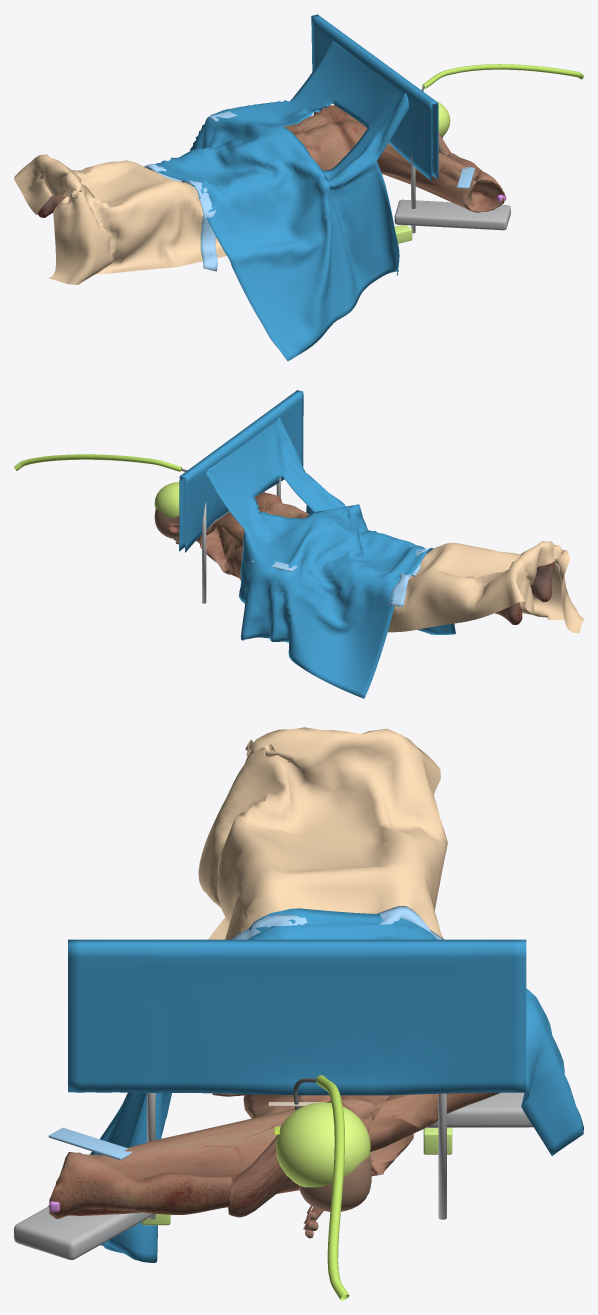
File: patient-raw.glb
The picture shows the model from 3 angles, top to bottom: view 1: azimuth 30°, elevation 25°; view 2: azimuth 150°, elevation 25°; view 3: azimuth 270°, elevation 25°; orthographic projection. The views are drawn at different scales.
Parts seen in each view (by area): view 1: LapDrape, WarmingBlanket, PatientBody, ScreenDrape, ArmBoardL, ThighStrap, Circuit.001; view 2: LapDrape, WarmingBlanket, ScreenDrape, PatientBody, Circuit.001, Cap, ThighStrap, Cylinder.001; view 3: ScreenDrape, WarmingBlanket, PatientBody, LapDrape, Cap, ArmBoardL, Circuit.001, ArmBoardR, ThighStrap, Cylinder.001, ArmStrapL.
Part boxes in pixels (left/top/right/bottom): LapDrape: left=148, top=40, right=409, bottom=361; WarmingBlanket: left=14, top=154, right=226, bottom=284; PatientBody: left=37, top=105, right=504, bottom=217; ScreenDrape: left=311, top=14, right=438, bottom=180; ArmBoardL: left=394, top=199, right=510, bottom=230; ThighStrap: left=144, top=163, right=217, bottom=271; Circuit.001: left=422, top=64, right=583, bottom=88; LapDrape: left=206, top=417, right=455, bottom=698; WarmingBlanket: left=388, top=541, right=583, bottom=633; ScreenDrape: left=179, top=390, right=303, bottom=552; PatientBody: left=154, top=491, right=554, bottom=624; Circuit.001: left=14, top=454, right=181, bottom=471; Cap: left=154, top=482, right=179, bottom=517; ThighStrap: left=389, top=548, right=432, bottom=606; Cylinder.001: left=202, top=503, right=206, bottom=603; ScreenDrape: left=68, top=939, right=526, bottom=1095; WarmingBlanket: left=198, top=727, right=447, bottom=939; PatientBody: left=49, top=1092, right=500, bottom=1238; LapDrape: left=48, top=908, right=583, bottom=1262; Cap: left=276, top=1102, right=370, bottom=1187; ArmBoardL: left=14, top=1206, right=154, bottom=1259; Circuit.001: left=316, top=1075, right=349, bottom=1300; ArmBoardR: left=427, top=1092, right=533, bottom=1127; ThighStrap: left=232, top=906, right=443, bottom=939; Cylinder.001: left=438, top=1093, right=446, bottom=1219; ArmStrapL: left=48, top=1127, right=131, bottom=1160.
Size of what is drawn, in the model's own units: 2.56 by 0.9541 by 1.19.
23 materials, 5 textured.
